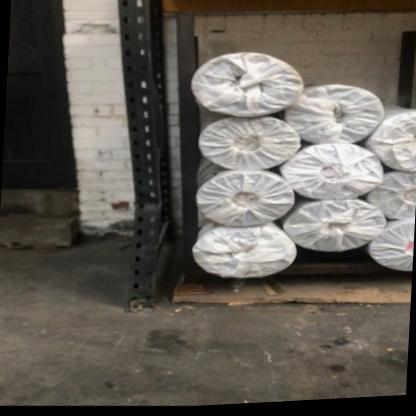vertical_damage: (123, 181, 168, 233)
